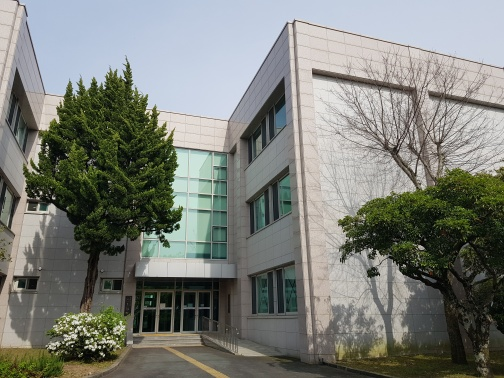College of Nursing: (18, 32, 456, 352)
